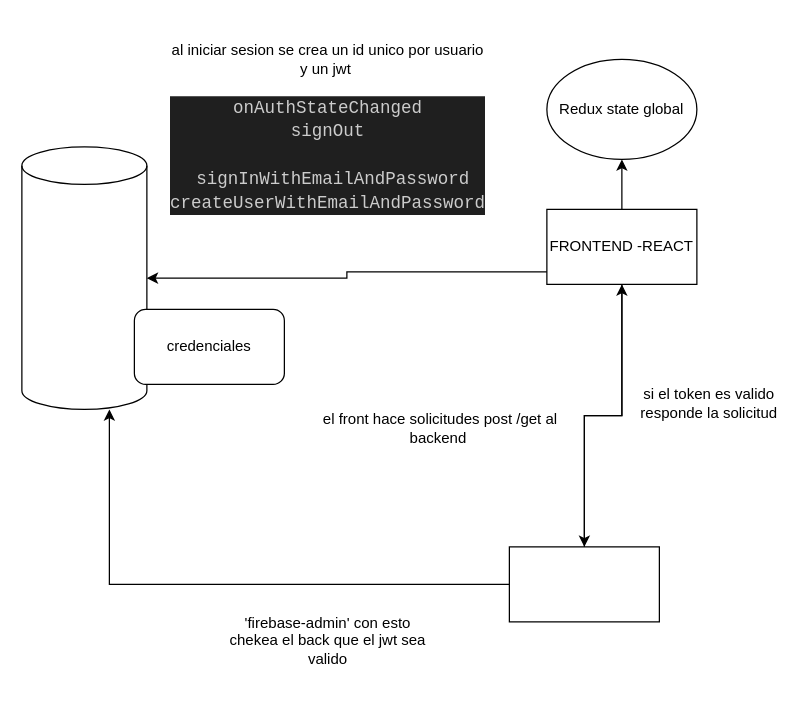
Some shapes in this 806 by 705 pixel diagram are drawn without their labels. Here are the shapes that lost their labels. From the top down, the centre of each, then its label:
At [84,277]: "firabase".
At [583,584]: "BACKEND".
